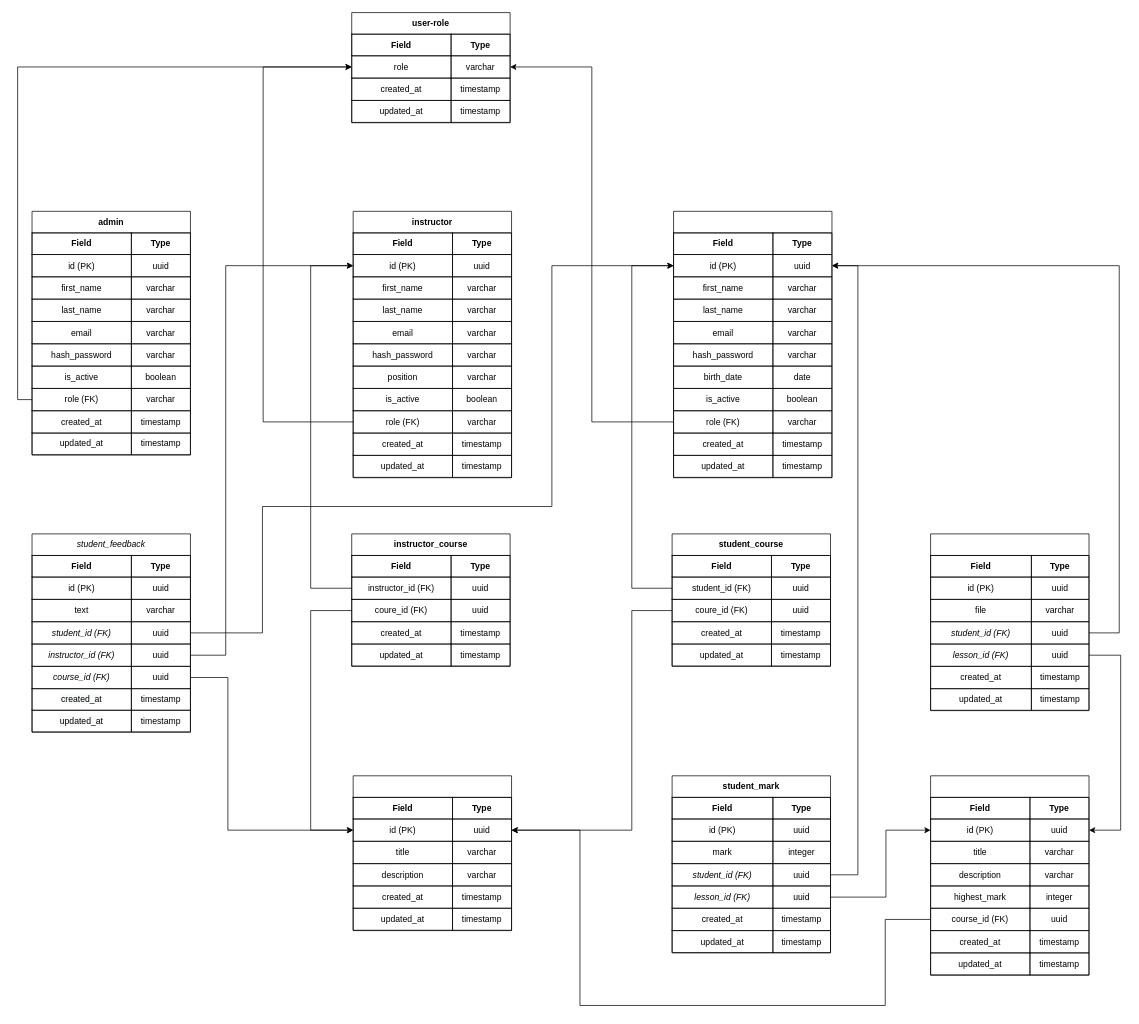
Some shapes in this 1139 by 1024 pixel diagram are drawn without their labels. Each missing label, with the box of its shape:
course: (352, 775, 512, 930)
homework: (930, 533, 1089, 711)
lesson: (930, 775, 1089, 975)
student: (673, 211, 832, 477)
